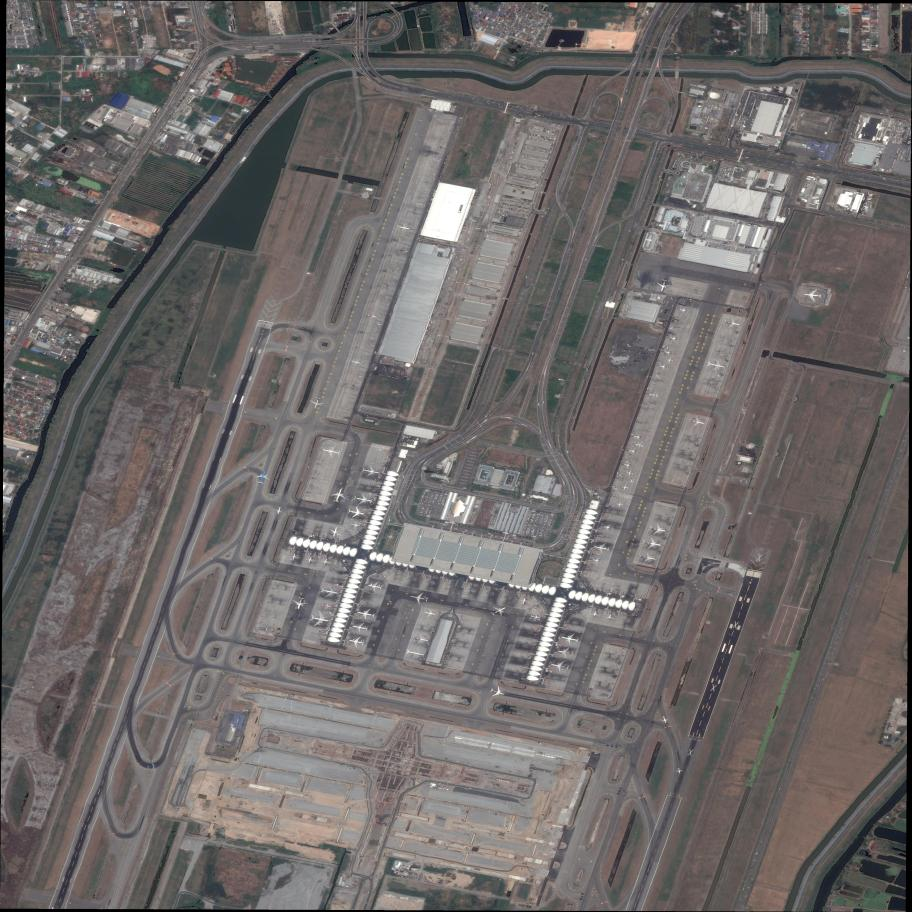plane: (307, 609, 332, 629), (488, 601, 511, 620), (354, 605, 377, 623), (404, 644, 427, 662), (351, 491, 375, 508), (559, 630, 581, 648), (328, 487, 350, 504), (705, 358, 728, 374), (641, 536, 664, 552), (408, 590, 430, 606), (346, 505, 368, 521), (319, 584, 341, 600), (549, 658, 571, 674), (686, 414, 707, 430), (360, 464, 382, 479), (320, 444, 342, 459), (647, 522, 669, 537), (637, 550, 659, 565), (253, 469, 272, 486), (346, 634, 366, 650), (290, 595, 310, 611), (487, 684, 507, 700), (654, 278, 673, 294), (410, 632, 430, 647), (350, 620, 370, 635), (722, 316, 742, 331), (307, 396, 326, 411), (592, 541, 611, 556), (556, 645, 575, 660), (803, 288, 823, 302), (366, 579, 384, 594), (328, 525, 343, 538), (422, 608, 438, 619), (395, 223, 412, 233), (529, 612, 542, 622), (320, 557, 332, 567), (304, 555, 316, 565), (465, 586, 477, 596), (518, 596, 530, 606), (589, 610, 601, 620), (659, 715, 671, 725), (349, 521, 362, 530), (274, 506, 285, 516), (678, 306, 690, 315), (669, 334, 681, 343), (628, 447, 640, 456), (147, 762, 160, 770), (288, 553, 299, 562), (634, 433, 645, 442), (623, 461, 634, 470), (366, 312, 378, 320), (321, 602, 333, 610), (351, 359, 363, 367), (663, 349, 675, 357), (658, 363, 670, 371), (648, 391, 660, 399), (635, 441, 645, 450), (605, 613, 615, 622), (603, 523, 614, 531), (592, 557, 603, 565), (621, 484, 630, 491), (666, 357, 674, 364), (626, 470, 634, 477), (616, 501, 624, 508), (675, 767, 683, 774), (629, 479, 635, 483)
